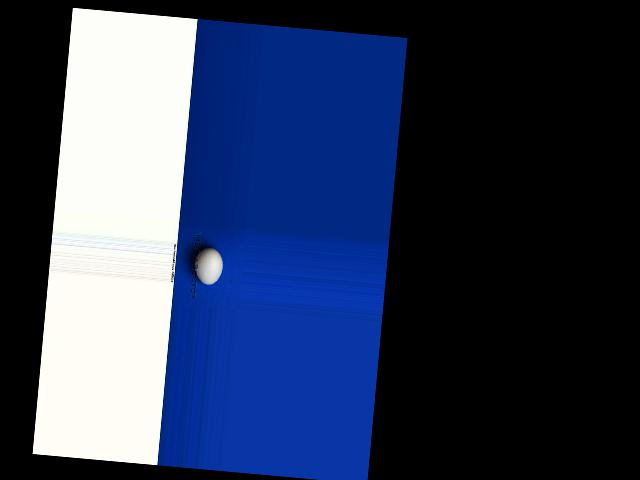egg: (192, 246, 224, 285)
